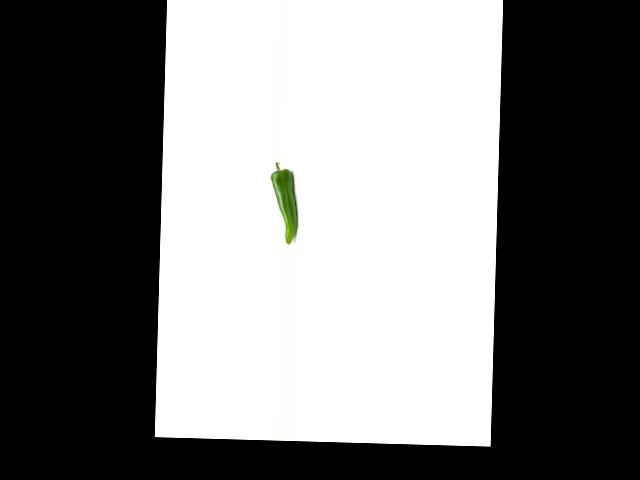bell_pepper: (267, 158, 301, 245)
